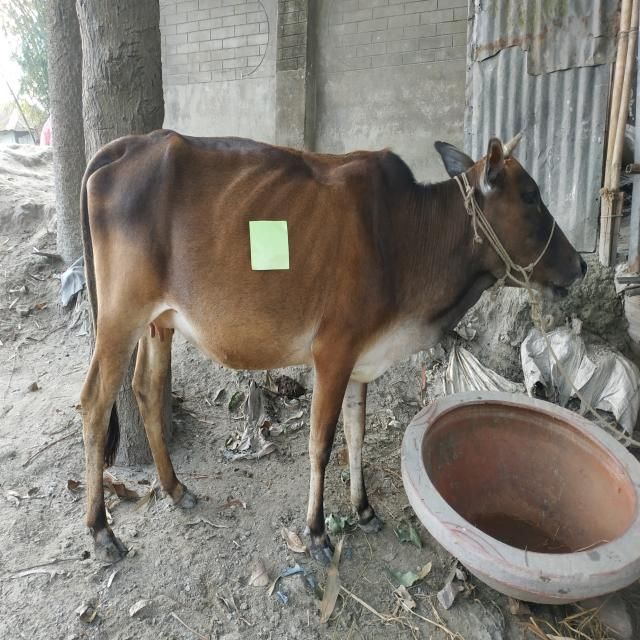badan_sapi: (101, 145, 357, 369)
sapi: (67, 132, 589, 566)
